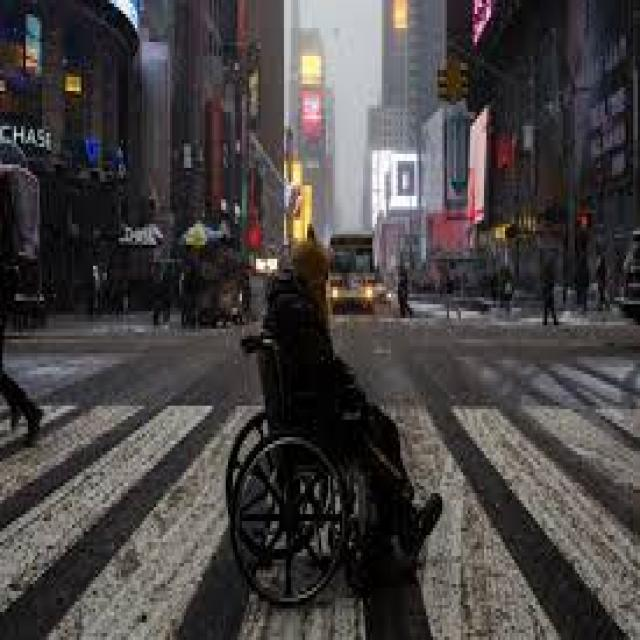wheelchairs: (209, 325, 412, 612)
